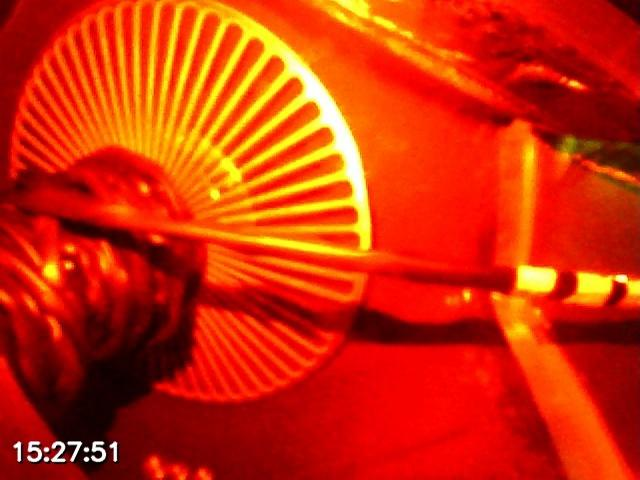white-dots: (512, 264, 640, 310)
